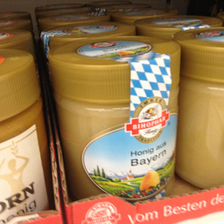honey: (49, 35, 182, 213), (1, 47, 49, 218), (175, 29, 224, 190)
